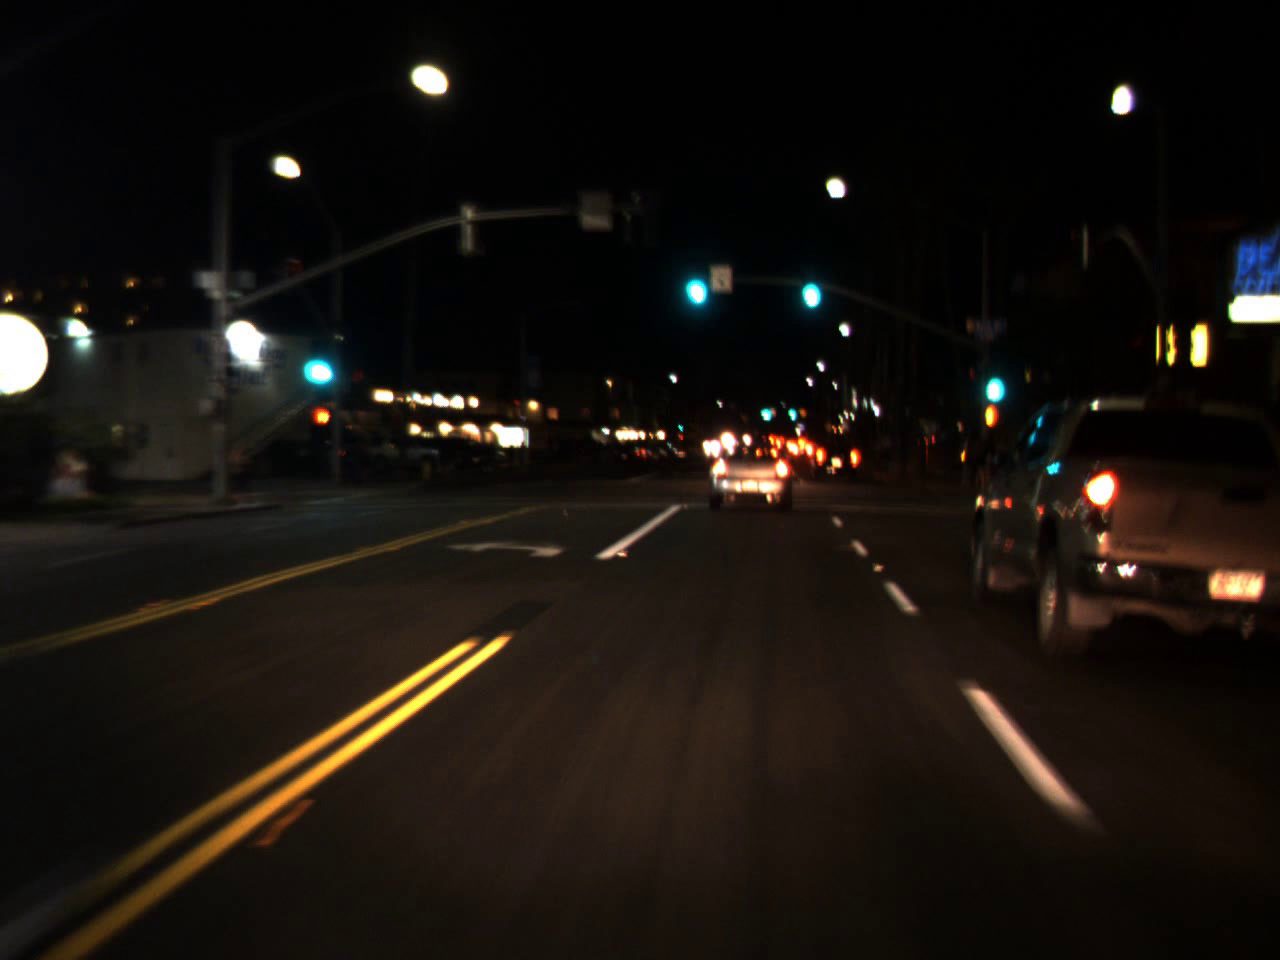go: (677, 249, 711, 315), (303, 342, 335, 387), (982, 355, 1003, 409), (800, 266, 819, 314), (757, 392, 773, 425), (787, 397, 796, 424), (676, 416, 683, 434)
